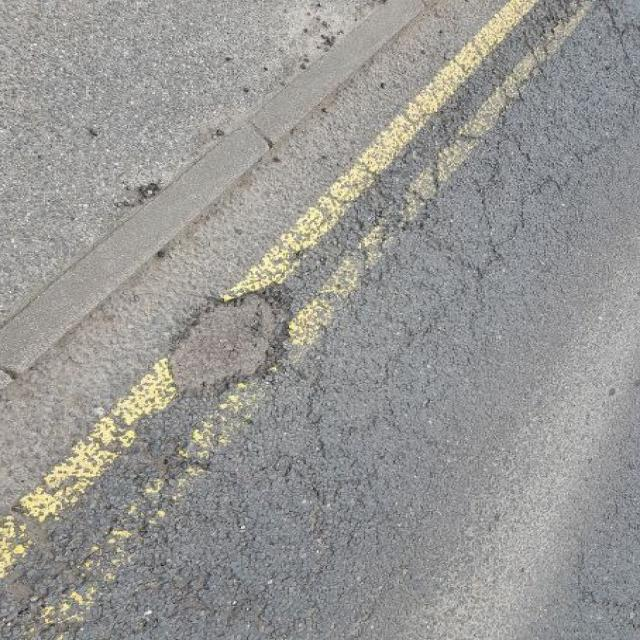Pothole: (160, 278, 303, 399)
